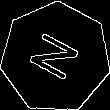N_SE: (24, 28, 87, 87)
